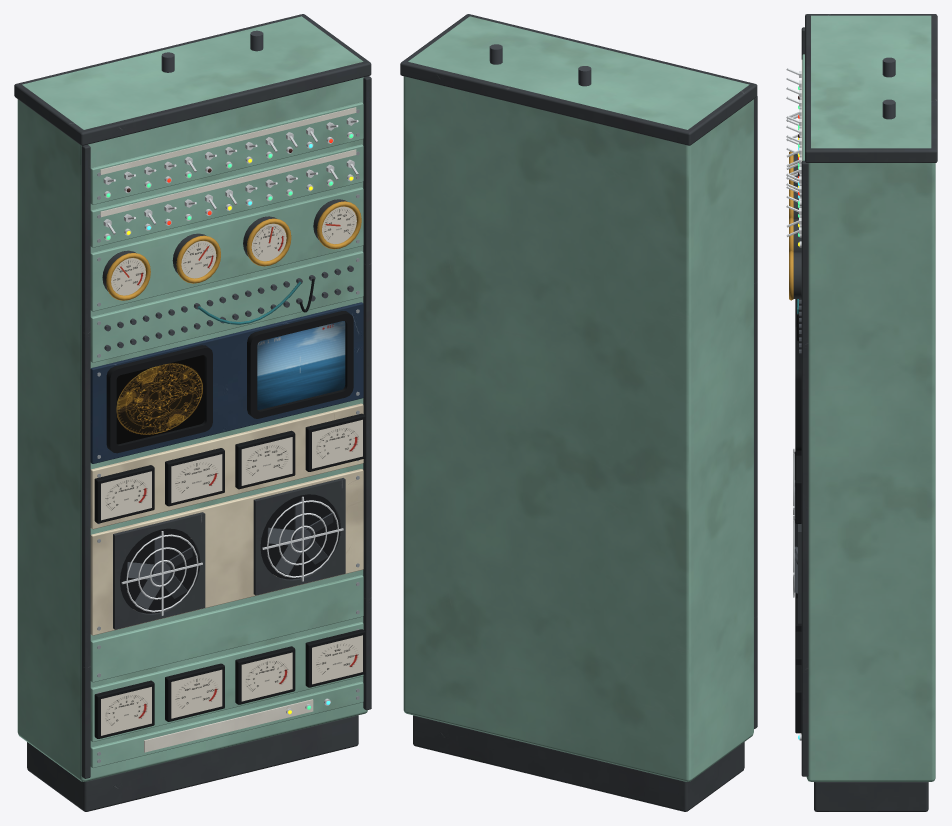
The model's file is Rack_90_0.glb.
3 views of the same model, side by side, from view 1: azimuth 30°, elevation 25°; view 2: azimuth 150°, elevation 25°; view 3: azimuth 270°, elevation 25° (orthographic). The views are drawn at different scales.
Visible parts, largest first — view 1: Rack_90_0_Body; view 2: Rack_90_0_Body; view 3: Rack_90_0_Body.
Part boxes in pixels (x1,y1,x2,y2): Rack_90_0_Body: [14, 14, 371, 811]; Rack_90_0_Body: [400, 14, 757, 811]; Rack_90_0_Body: [786, 14, 937, 811].
Size of the model in its own units: 0.91 by 2.1 by 0.4216.
22 materials, 12 textured.
